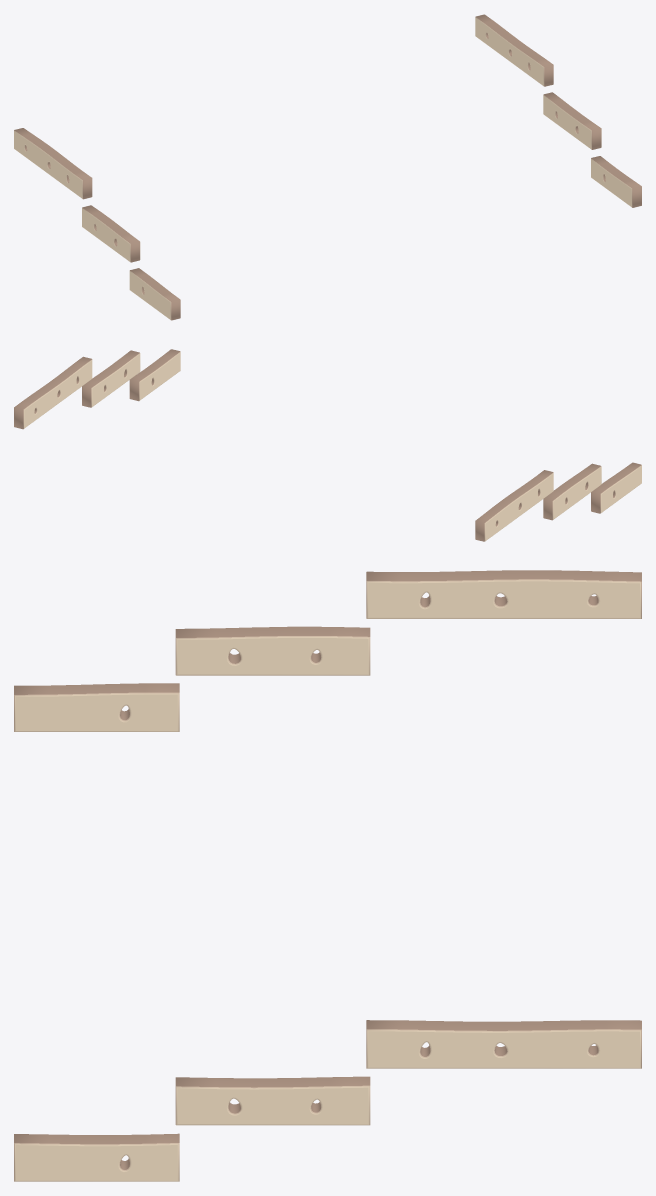
The model's file is side-parapet-depth-v3.glb.
3 views of the same model, one above another, from view 1: azimuth 30°, elevation 25°; view 2: azimuth 150°, elevation 25°; view 3: azimuth 270°, elevation 25° (orthographic). The views are drawn at different scales.
Visible parts, largest first — view 1: TG03_SIDE_DEPTH; view 2: TG03_SIDE_DEPTH; view 3: TG03_SIDE_DEPTH.
Boxes of the visible parts, bbox=[...] form: TG03_SIDE_DEPTH: bbox=[14, 14, 641, 320]; TG03_SIDE_DEPTH: bbox=[14, 349, 641, 541]; TG03_SIDE_DEPTH: bbox=[14, 570, 641, 1181].
Bounding box in the file's own units: 18.83 × 2.93 × 10.87.
